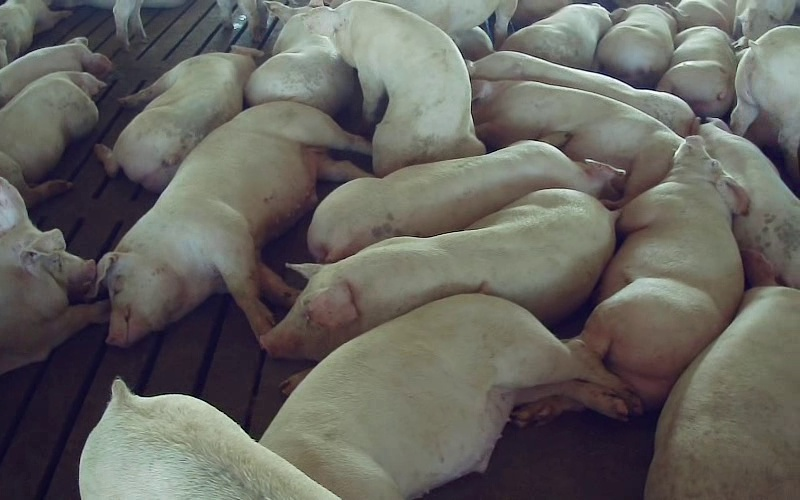pig: (261, 294, 638, 499), (98, 101, 369, 346), (582, 136, 747, 407), (308, 132, 624, 261), (645, 287, 799, 499), (307, 0, 484, 175), (79, 379, 337, 499), (472, 80, 682, 202), (95, 47, 262, 191), (469, 51, 694, 136), (697, 119, 799, 287), (0, 71, 105, 206), (245, 0, 356, 115), (730, 26, 799, 182), (0, 37, 112, 107), (500, 4, 611, 69), (657, 26, 736, 117), (595, 4, 676, 88)
